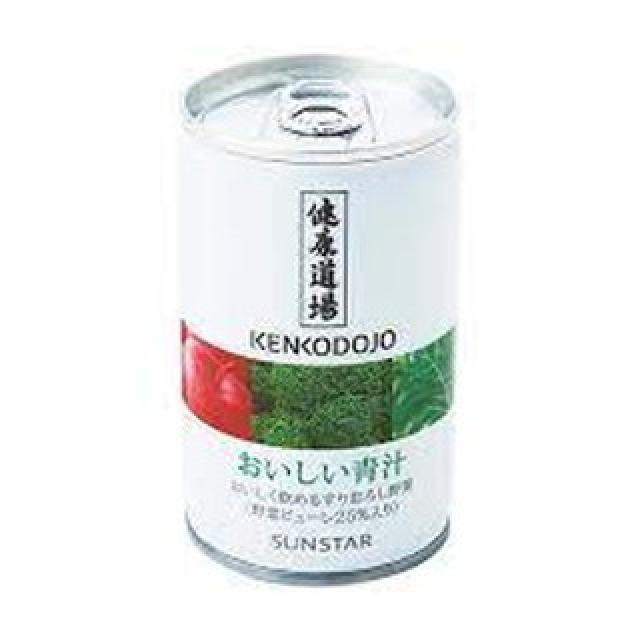can: (152, 44, 482, 591)
